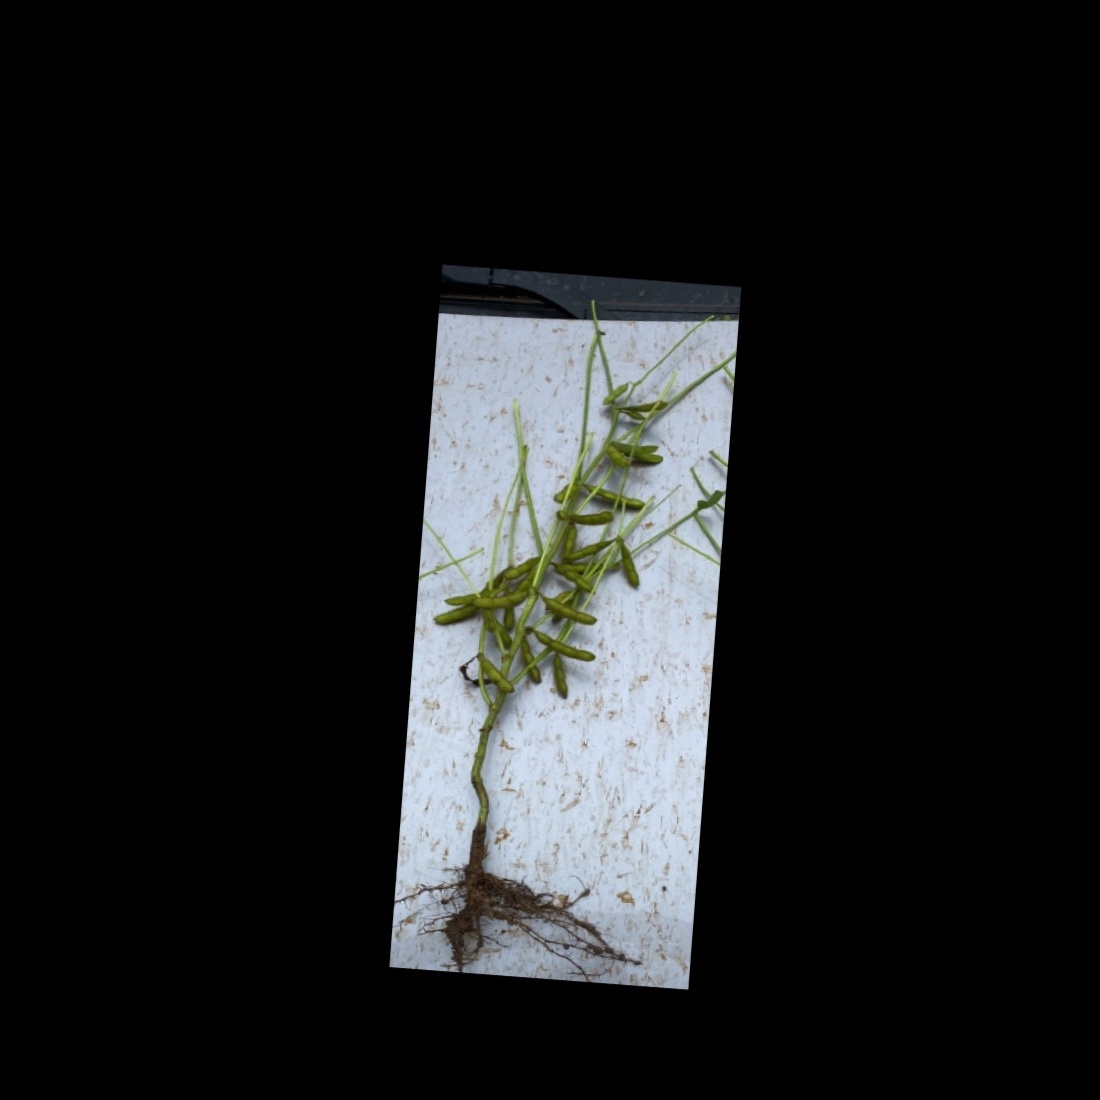pod: (534, 630, 597, 663), (584, 480, 646, 508), (474, 657, 517, 696), (542, 598, 597, 628), (570, 534, 618, 564), (474, 588, 533, 611), (549, 654, 574, 703), (570, 505, 618, 529), (519, 641, 544, 687), (504, 554, 542, 581), (618, 547, 644, 588), (433, 602, 475, 626), (600, 378, 629, 408), (514, 566, 539, 596), (560, 524, 577, 560), (499, 606, 518, 631)
soy: (406, 321, 703, 969)
